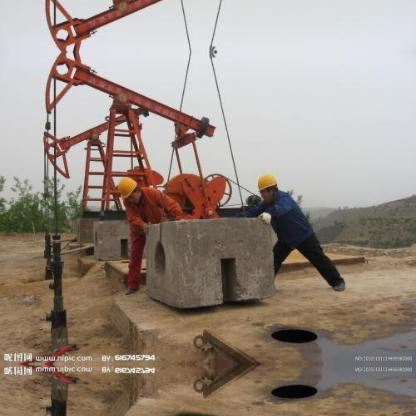Safety Helmet: (115, 174, 144, 207), (256, 170, 282, 205)
